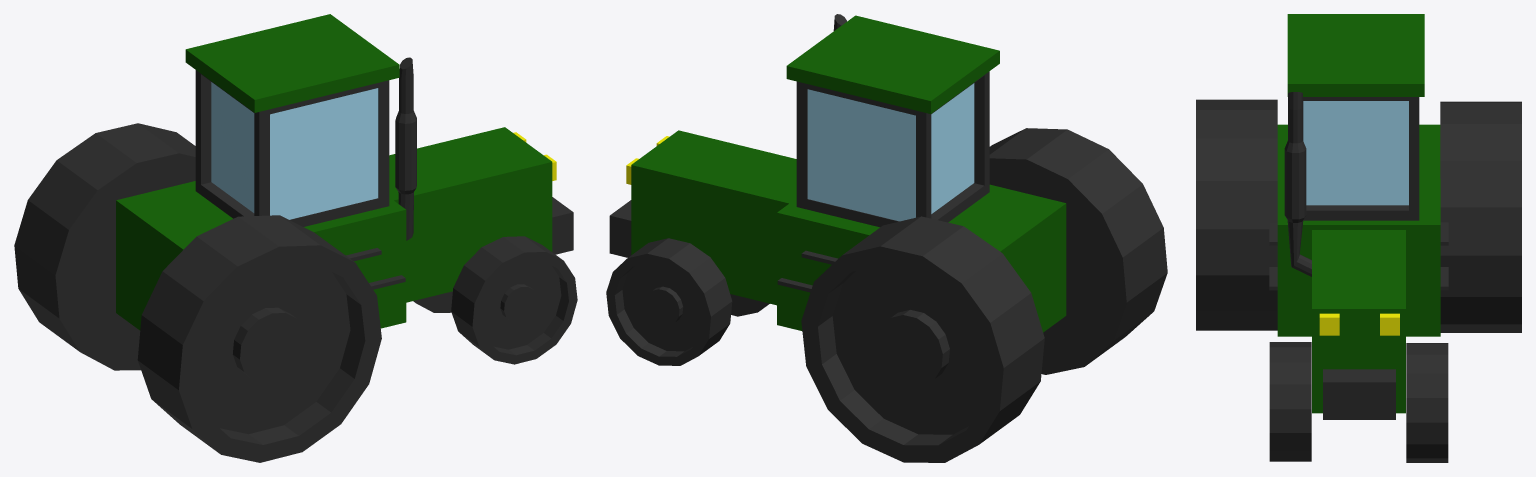
Rendered from Tractor.fbx.
3 views of the same model, side by side, from view 1: azimuth 30°, elevation 25°; view 2: azimuth 150°, elevation 25°; view 3: azimuth 270°, elevation 25° (orthographic).
Parts seen in each view (by area): view 1: Cylinder.001, Cylinder.009, Cube.001, Cube.006, Cube.002, Cube.007, Cylinder.005, Cube.003, Cylinder.003, Cylinder, Cylinder.006, Cube.011; view 2: Cylinder.009, Cylinder.001, Cube.001, Cube.006, Cube.002, Cube.007, Cylinder.002, Cube.003, Cylinder.010, Cylinder.004, Cube.011; view 3: Cylinder.001, Cylinder.009, Cube.001, Cube.007, Cube.002, Cube.006, Cylinder.005, Cylinder.002, Cube.011, Cube.003, Cylinder, Cube.010 (+2 smaller).
Part boxes in pixels (x1=…): Cylinder.001: x1=137, y1=215, x2=381, y2=462; Cylinder.009: x1=14, y1=123, x2=195, y2=370; Cube.001: x1=389, y1=127, x2=552, y2=302; Cube.006: x1=211, y1=82, x2=378, y2=219; Cube.002: x1=116, y1=181, x2=406, y2=330; Cube.007: x1=185, y1=14, x2=399, y2=112; Cylinder.005: x1=451, y1=236, x2=577, y2=364; Cube.003: x1=195, y1=70, x2=389, y2=226; Cylinder.003: x1=232, y1=307, x2=305, y2=382; Cylinder: x1=395, y1=57, x2=416, y2=240; Cylinder.006: x1=500, y1=284, x2=537, y2=322; Cube.011: x1=552, y1=197, x2=573, y2=254; Cylinder.009: x1=801, y1=216, x2=1044, y2=462; Cylinder.001: x1=989, y1=128, x2=1167, y2=374; Cube.001: x1=631, y1=130, x2=796, y2=305; Cube.006: x1=807, y1=83, x2=974, y2=221; Cube.002: x1=777, y1=184, x2=1066, y2=332; Cube.007: x1=786, y1=15, x2=999, y2=113; Cylinder.002: x1=606, y1=238, x2=732, y2=365; Cube.003: x1=796, y1=71, x2=989, y2=227; Cylinder.010: x1=877, y1=309, x2=949, y2=384; Cylinder.004: x1=645, y1=286, x2=683, y2=325; Cube.011: x1=609, y1=200, x2=631, y2=257; Cylinder.001: x1=1196, y1=99, x2=1277, y2=330; Cylinder.009: x1=1440, y1=101, x2=1521, y2=332; Cube.001: x1=1312, y1=230, x2=1405, y2=413; Cube.007: x1=1287, y1=14, x2=1424, y2=96; Cube.002: x1=1277, y1=124, x2=1440, y2=336; Cube.006: x1=1303, y1=101, x2=1408, y2=205; Cylinder.005: x1=1269, y1=342, x2=1311, y2=461; Cylinder.002: x1=1406, y1=343, x2=1448, y2=462; Cube.011: x1=1323, y1=369, x2=1395, y2=419; Cube.003: x1=1303, y1=97, x2=1419, y2=220; Cylinder: x1=1284, y1=92, x2=1311, y2=276; Cube.010: x1=1269, y1=222, x2=1448, y2=290.
Bounding box in the file's own units: 386 × 258 × 240.
